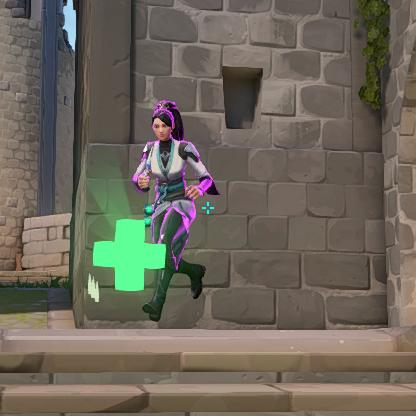enemyBody: (158, 144, 180, 188)
enemyHead: (155, 119, 171, 135)
